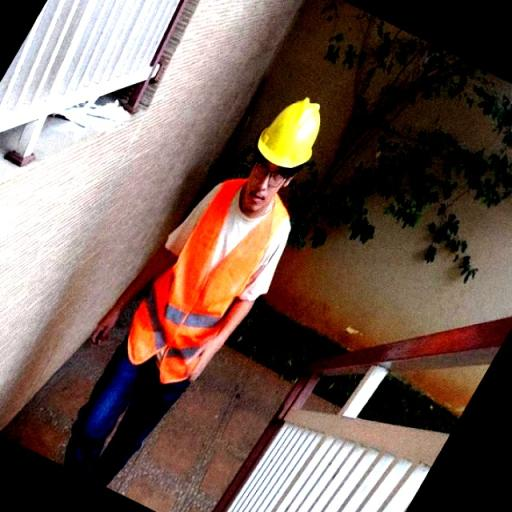Person: (58, 96, 348, 508)
goggles: (246, 167, 298, 186)
helmet: (254, 94, 326, 170)
vest: (131, 176, 293, 405)
